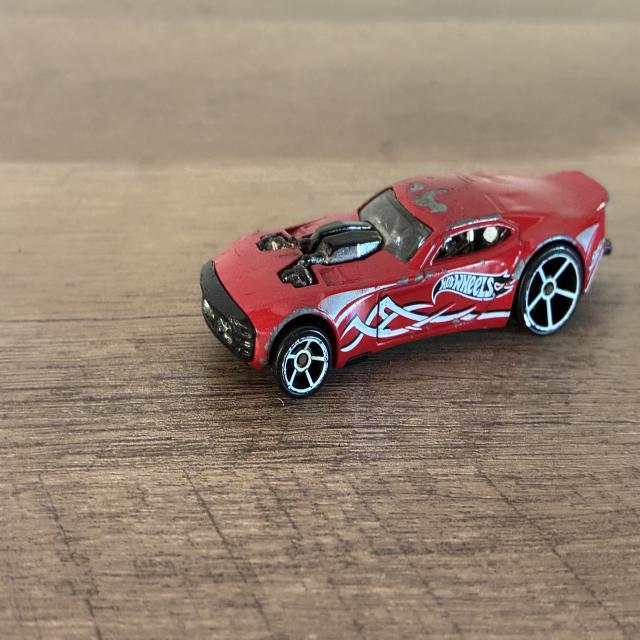cars: (201, 172, 610, 397)
